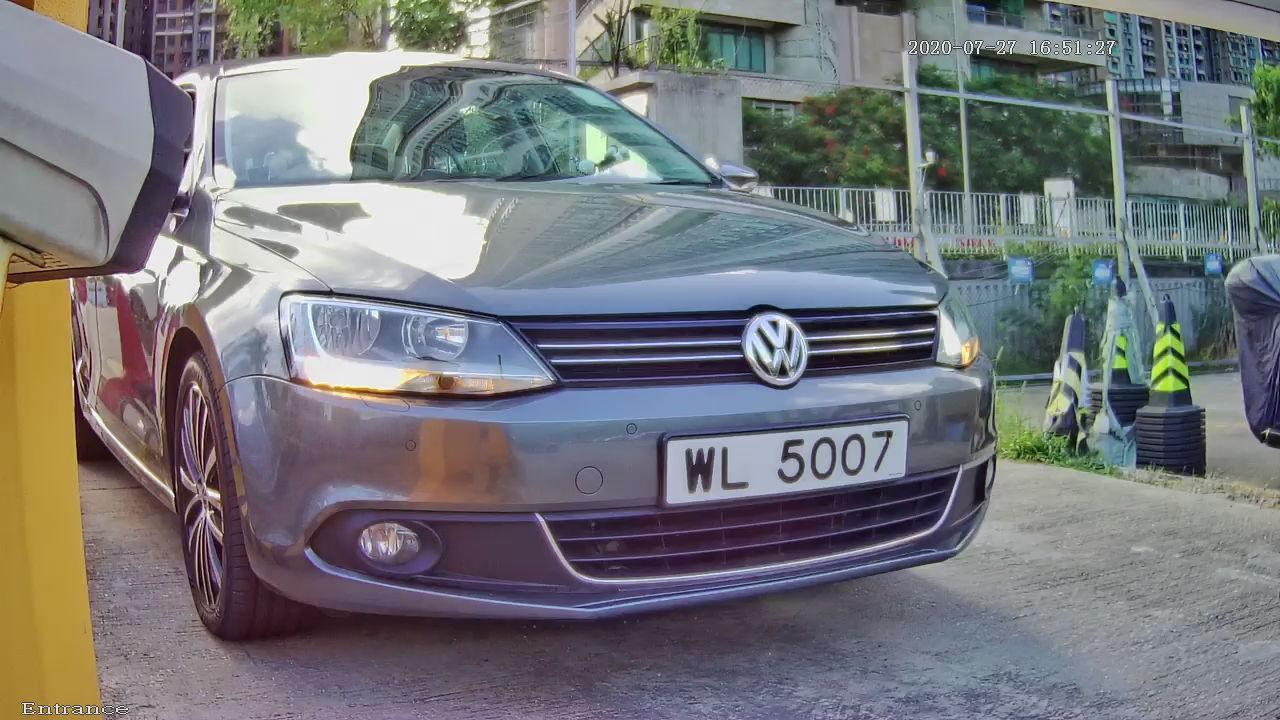privatecar: (63, 17, 1115, 659)
